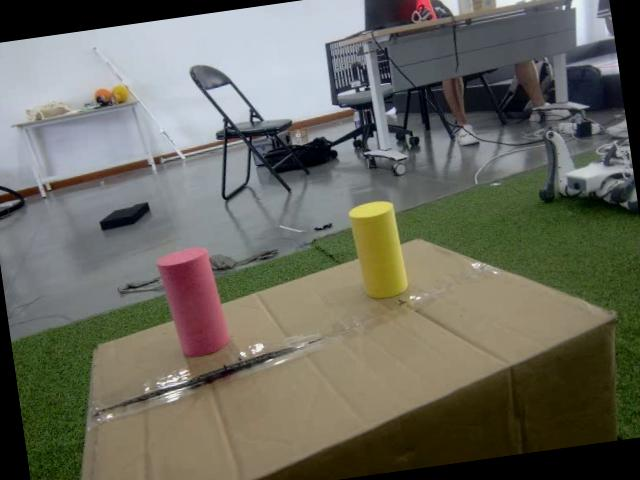red_cylinder: (156, 245, 232, 360)
yellow_cylinder: (348, 200, 410, 300)
